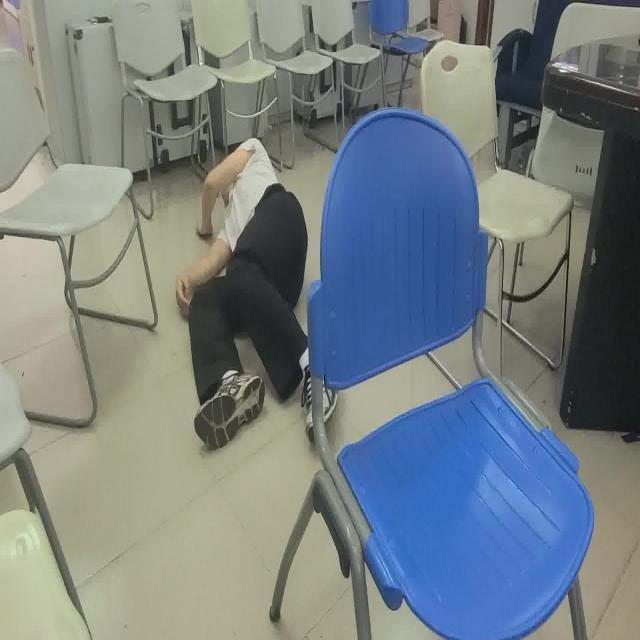fall: (173, 132, 340, 450)
